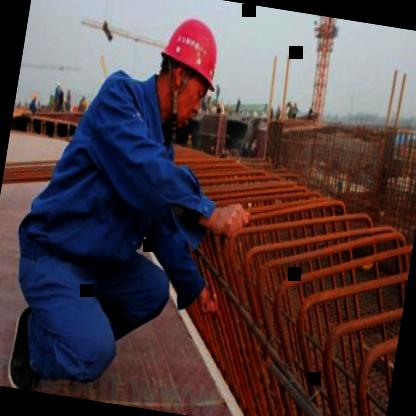helmet: (142, 4, 236, 128)
